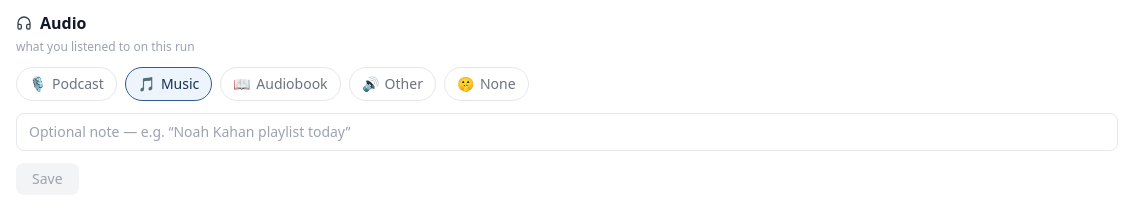
AudioLog › clicking the active category again clears it
Click the button "🎵 Music": x=169, y=84 [125,67,212,101]
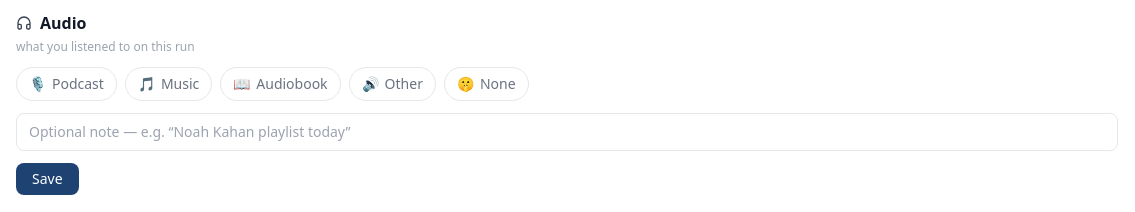
expect the button "Save" is enabled: met, box [16,163,79,195]
